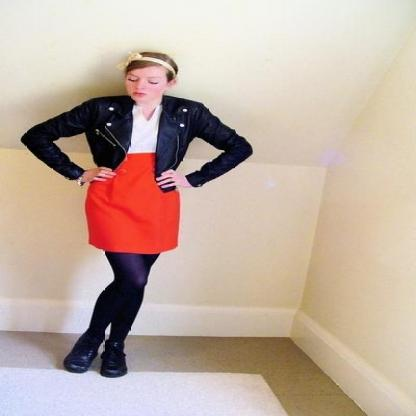jacket: (20, 94, 252, 192)
shirt: (127, 113, 157, 152)
shoe: (71, 330, 127, 377)
skirt: (85, 153, 179, 253)
